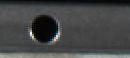holes: (27, 12, 61, 44)
